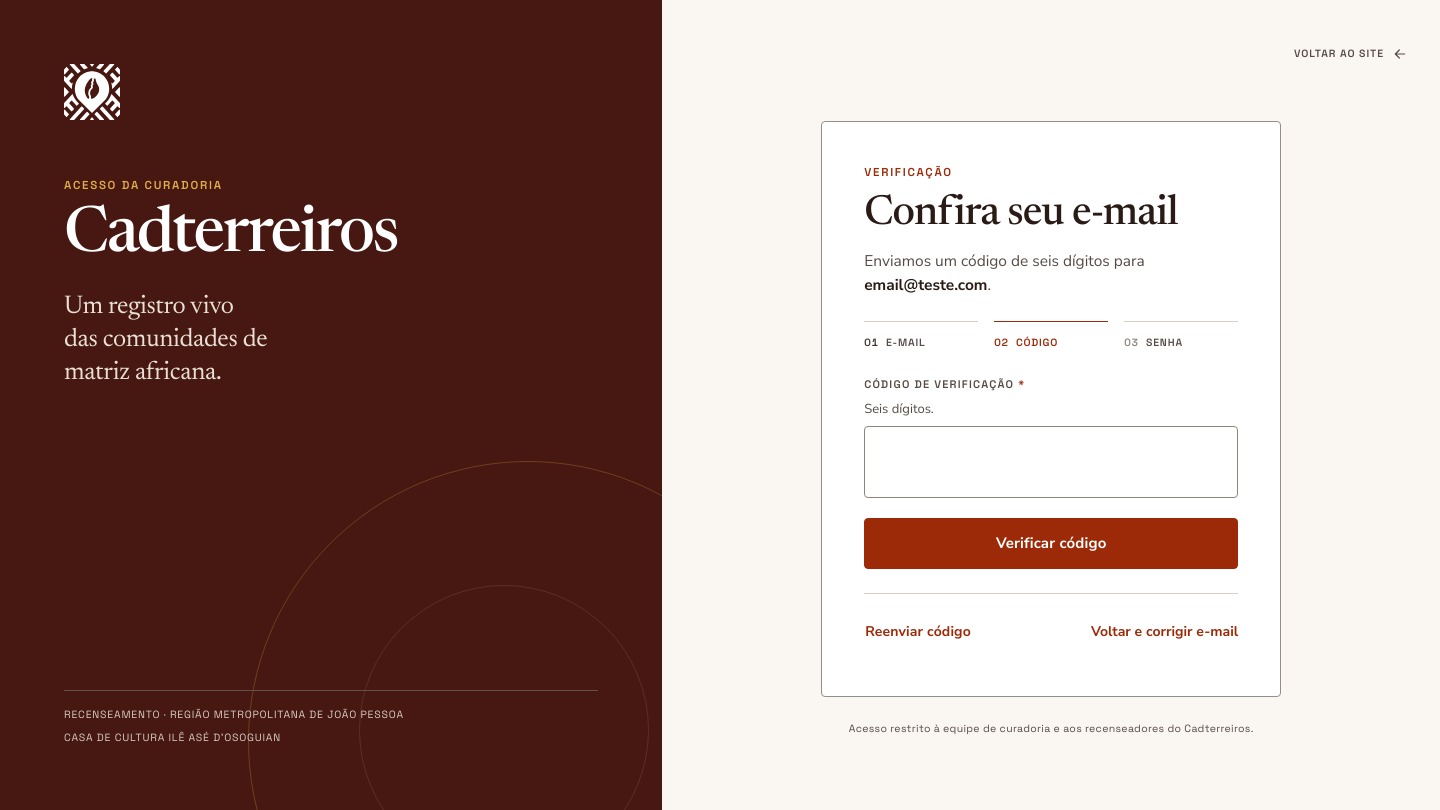
Test: OTP › reenvia o código e renova o token da rota
Click the button "Reenviar código" at (918, 632), box top-left (864, 610), bottom-right (972, 654)
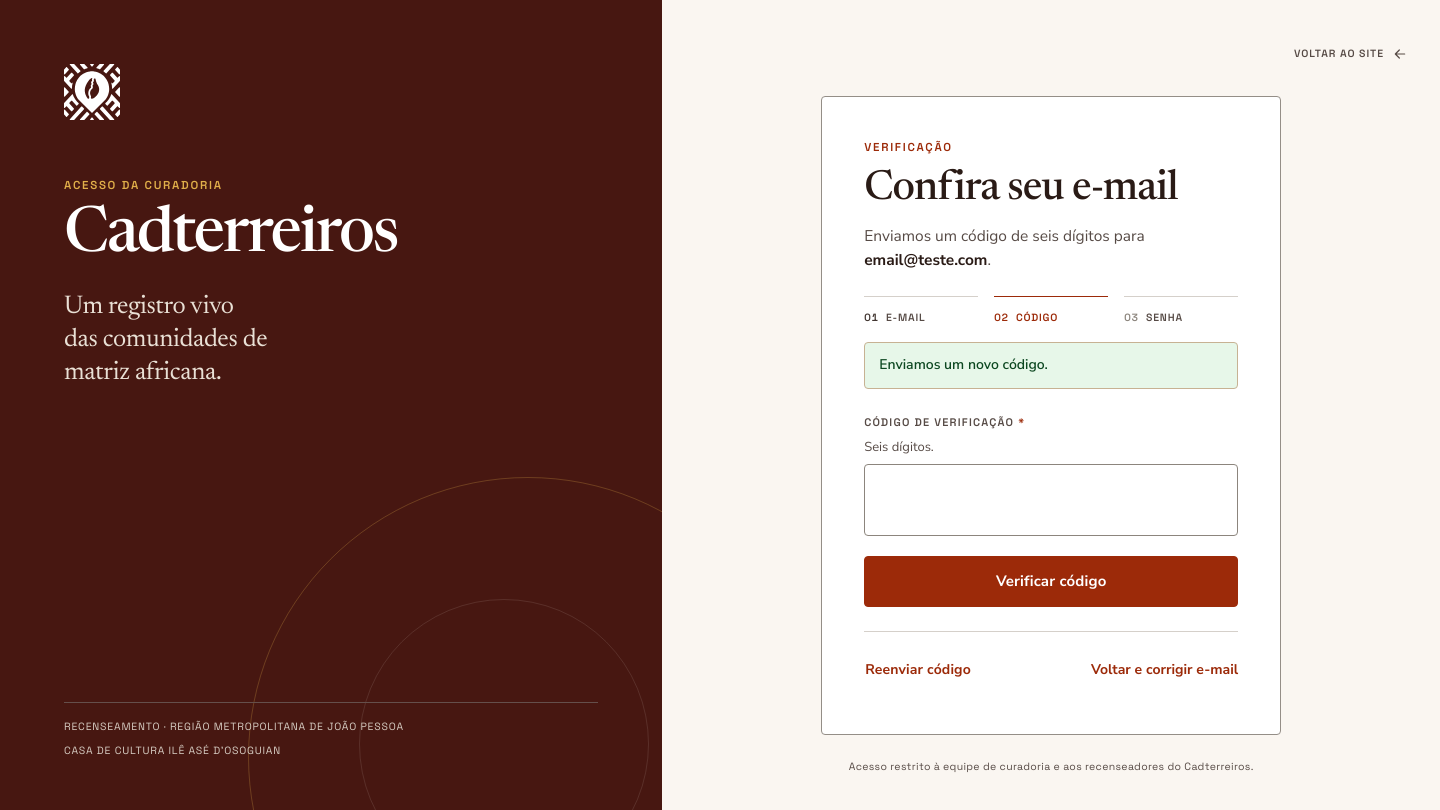
Check: the text "Enviamos um novo código." is shown, box top-left (864, 342), bottom-right (1238, 389)
